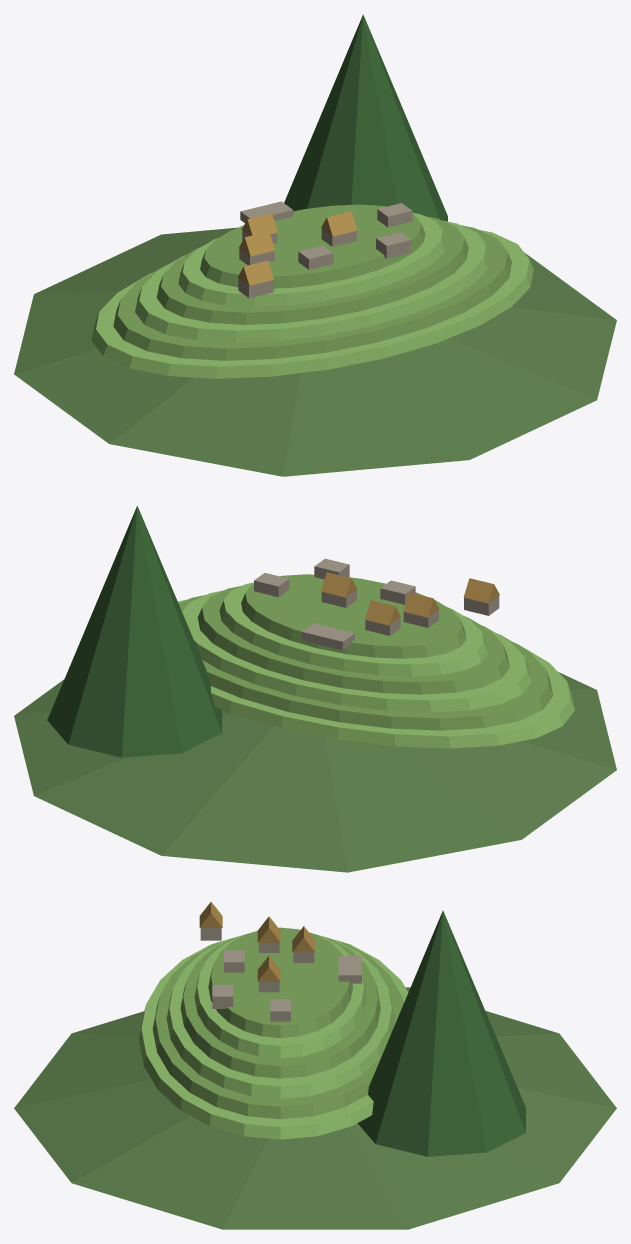
File: machu-picchu.glb
3 renders of one model, top to bottom at view 1: azimuth 30°, elevation 25°; view 2: azimuth 150°, elevation 25°; view 3: azimuth 270°, elevation 25°, orthographic. The views are drawn at different scales.
Visible parts, largest first — view 1: machu-picchu; view 2: machu-picchu; view 3: machu-picchu.
Part boxes in pixels (<box>): machu-picchu: <box>14,14,616,476</box>; machu-picchu: <box>14,506,616,872</box>; machu-picchu: <box>14,901,616,1229</box>.
Bounding box in the file's own units: 2.06 × 1 × 2.17.
